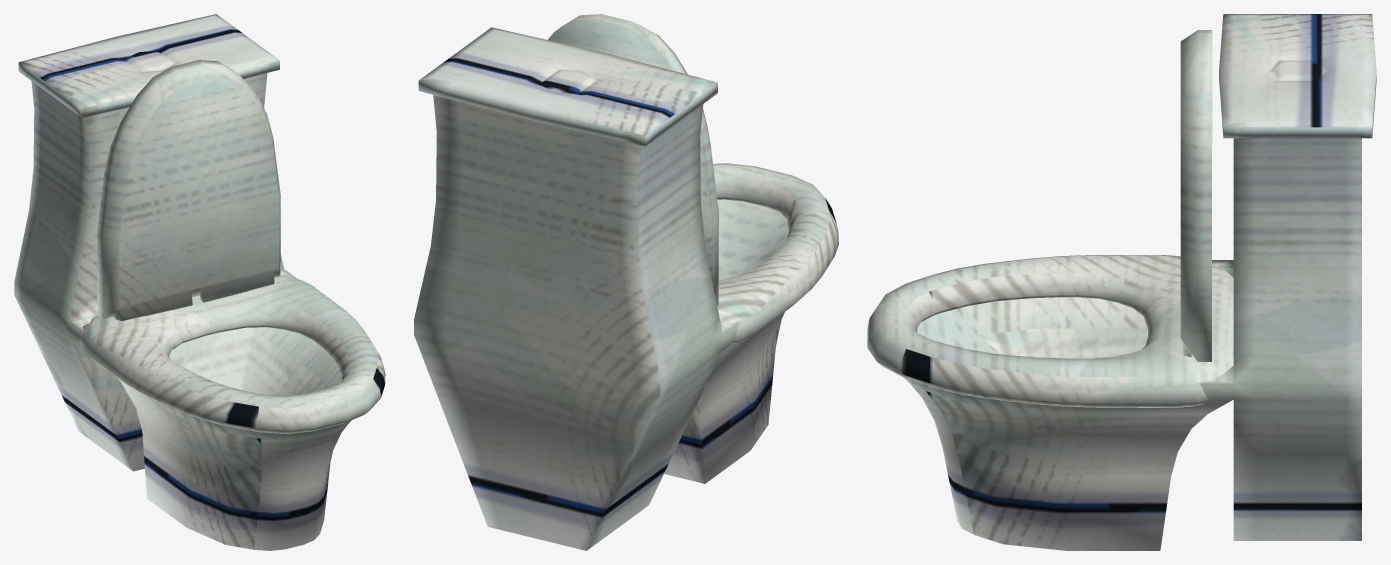
File: toilet.glb
3 renders of one model, left to right at view 1: azimuth 30°, elevation 25°; view 2: azimuth 150°, elevation 25°; view 3: azimuth 270°, elevation 25°, orthographic. The views are drawn at different scales.
Parts seen in each view (by area): view 1: Object_96.003; view 2: Object_96.003; view 3: Object_96.003.
Boxes of the visible parts, x1,y1,x2,y2 form: Object_96.003: (14, 14, 385, 550); Object_96.003: (414, 14, 838, 550); Object_96.003: (867, 14, 1376, 550).
Bounding box in the file's own units: 0.8995 × 1.53 × 1.49.
Materials: 1 (1 with a texture image).
